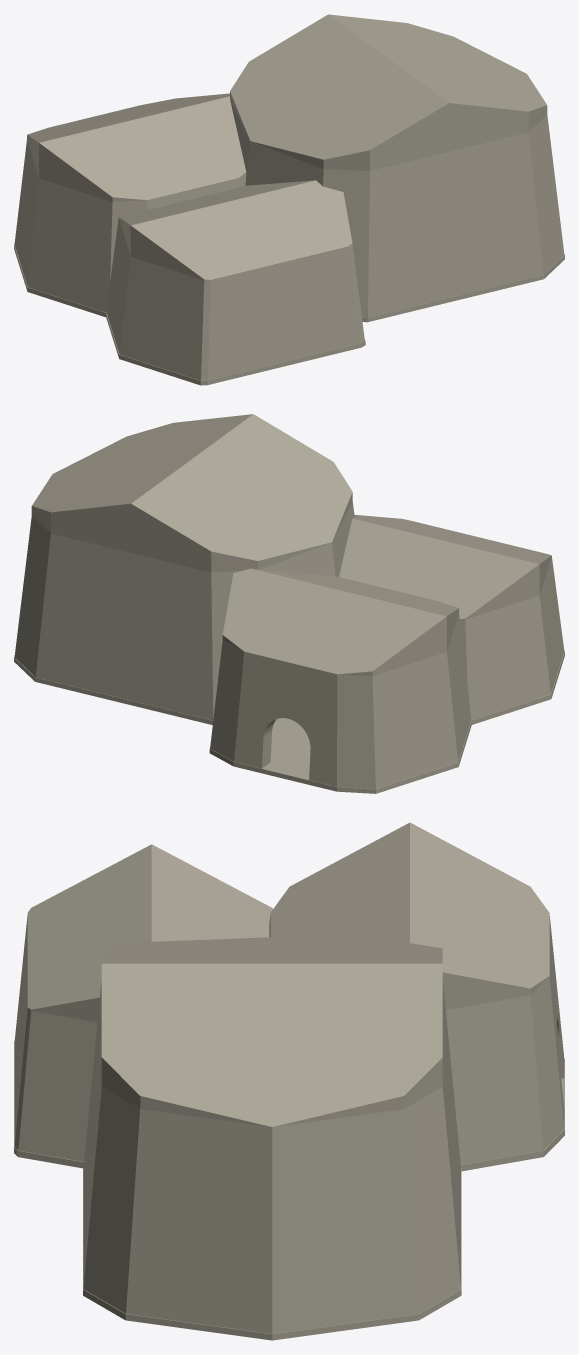
The picture shows the model from 3 angles, top to bottom: view 1: azimuth 30°, elevation 25°; view 2: azimuth 150°, elevation 25°; view 3: azimuth 270°, elevation 25°; orthographic projection. The views are drawn at different scales.
Parts seen in each view (by area): view 1: body_stone, roof_stone; view 2: body_stone, roof_stone; view 3: body_stone, roof_stone.
Boxes of the visible parts, x1=… form: body_stone: x1=14, y1=102, x2=564, y2=385; roof_stone: x1=27, y1=14, x2=547, y2=280; body_stone: x1=14, y1=501, x2=564, y2=793; roof_stone: x1=31, y1=414, x2=551, y2=676; body_stone: x1=14, y1=913, x2=564, y2=1340; roof_stone: x1=27, y1=822, x2=549, y2=1126.
Size of what is drawn, in the model's own units: 22 by 8.7 by 16.
